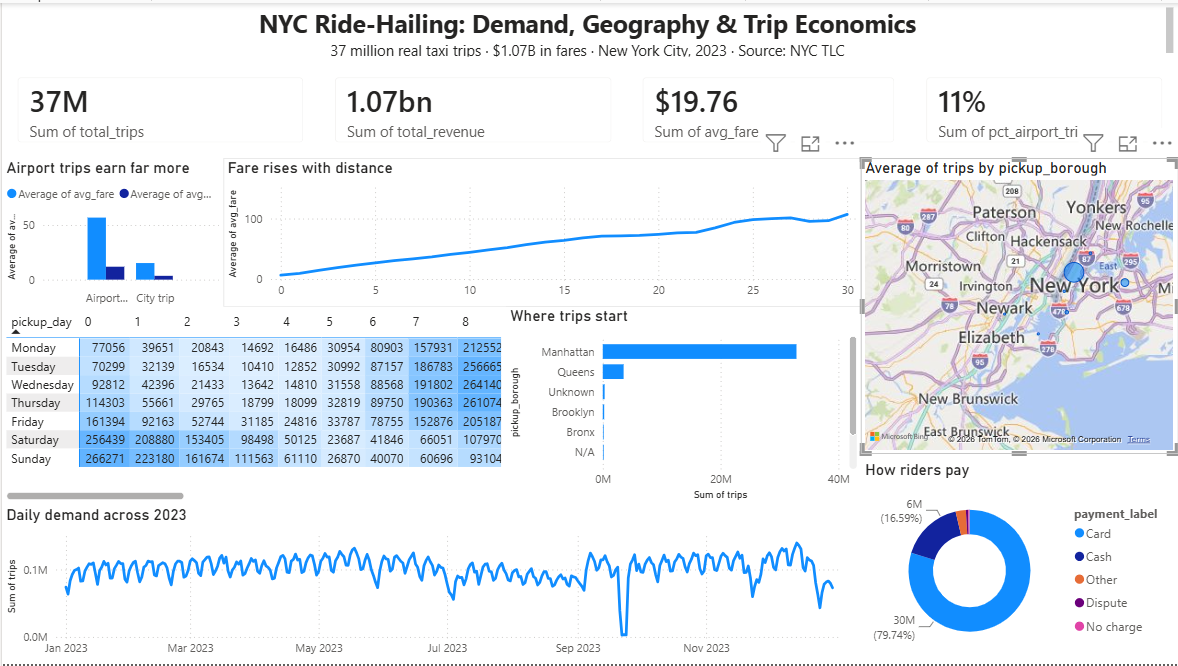

What the dashboard file says about the page in this screenshot:
{"tool":"powerbi","page":{"name":"Page 1","canvas":[1280,720],"ordinal":0},"visuals":[{"type":"cardVisual","fields":{"Data":["Sum(kpi_summary.total_trips)"]},"box":[0,63.4,345.1,105.6],"z":0},{"type":"cardVisual","fields":{"Data":["Sum(kpi_summary.total_revenue)"]},"box":[345.1,63.4,335.2,105.6],"z":1000},{"type":"cardVisual","fields":{"Data":["Sum(kpi_summary.avg_fare)"]},"box":[680.3,63.4,308.5,105.6],"z":2000},{"type":"cardVisual","fields":{"Data":["Sum(kpi_summary.pct_airport_trips)"]},"box":[988.7,63.4,291.5,105.6],"z":3000},{"type":"clusteredBarChart","title":"Where trips start","fields":{"Y":["Sum(by_borough.trips)"],"Category":["by_borough.pickup_borough"]},"box":[547.9,331,387.3,215.5],"z":4000},{"type":"map","fields":{"Size":["Avg(by_borough.trips)"],"Category":["by_borough.pickup_borough"]},"box":[935.2,169,345.1,322.5],"z":5000},{"type":"clusteredColumnChart","title":"Airport trips earn far more","fields":{"Category":["airport_vs_city.trip_type"],"Y":["Avg(airport_vs_city.avg_fare)","Avg(airport_vs_city.avg_tip_card)"]},"box":[0,169,240.8,167.6],"z":6000},{"type":"lineChart","title":"Fare rises with distance","fields":{"Category":["fare_by_distance.distance_mi"],"Y":["Avg(fare_by_distance.avg_fare)"]},"box":[240.8,169,694.4,162],"z":7000},{"type":"donutChart","title":"How riders pay","fields":{"Category":["payment_mix.payment_label"],"Y":["Sum(payment_mix.trips)"]},"box":[935.2,498.6,345.1,221.1],"z":8000},{"type":"lineChart","title":"Daily demand across 2023","fields":{"Y":["Sum(daily_trend.trips)"],"Category":["daily_trend.pickup_date.Variation.Date Hierarchy.Year","daily_trend.pickup_date.Variation.Date Hierarchy.Quarter","daily_trend.pickup_date.Variation.Date Hierarchy.Month","daily_trend.pickup_date.Variation.Date Hierarchy.Day"]},"box":[0,546.5,935.2,173.2],"z":9000},{"type":"textbox","box":[1.4,0,1278.9,63.1],"z":9001},{"type":"pivotTable","fields":{"Rows":["demand_by_hour_dow.pickup_day"],"Columns":["demand_by_hour_dow.pickup_hour"],"Values":["Sum(demand_by_hour_dow.trips)"]},"box":[0,331,547.9,215.5],"z":9002}]}

Visuals, with their boxes in screenshot pixels (x1, y1, x2, y2), scaled from the page's 1280x720 canvas onto the 1178x666 screenshot:
cardVisual - Sum(kpi_summary.total_trips): 0,59,318,156
cardVisual - Sum(kpi_summary.total_revenue): 318,59,626,156
cardVisual - Sum(kpi_summary.avg_fare): 626,59,910,156
cardVisual - Sum(kpi_summary.pct_airport_trips): 910,59,1177,156
"Where trips start" clusteredBarChart: 504,306,861,506
map - Avg(by_borough.trips) x by_borough.pickup_borough: 861,156,1177,455
"Airport trips earn far more" clusteredColumnChart: 0,156,222,311
"Fare rises with distance" lineChart: 222,156,861,306
"How riders pay" donutChart: 861,461,1177,665
"Daily demand across 2023" lineChart: 0,506,861,665
textbox: 1,0,1177,58
pivotTable - demand_by_hour_dow.pickup_day x demand_by_hour_dow.pickup_hour: 0,306,504,506
